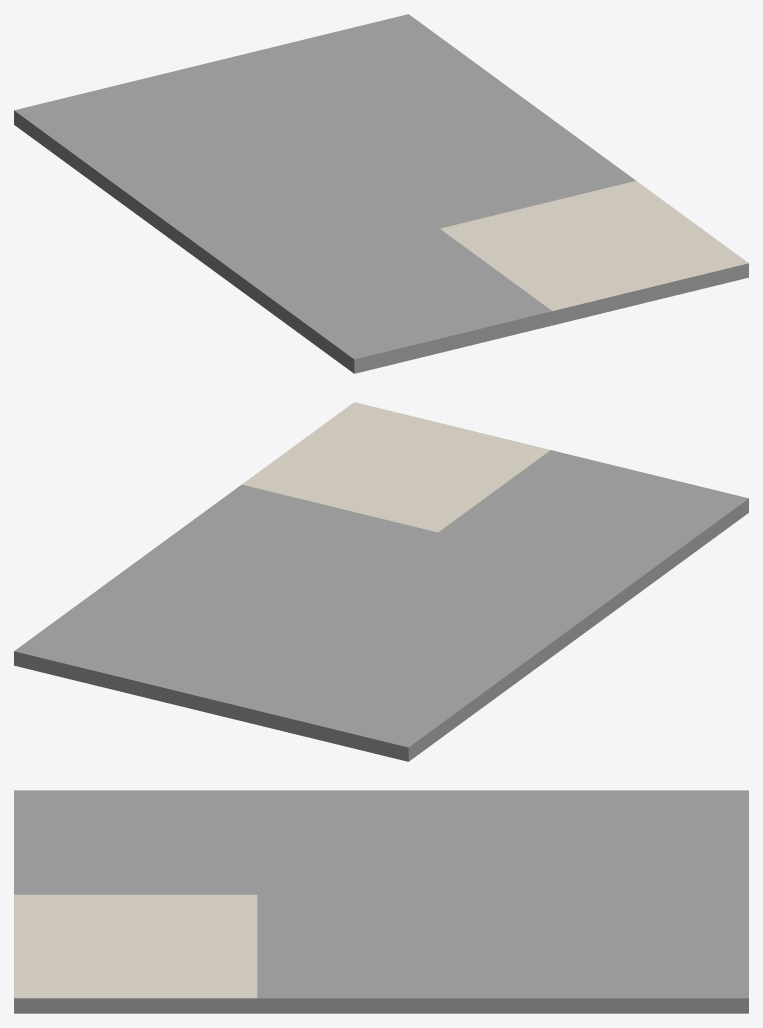
The model's file is Ceiling.fbx.
The picture shows the model from 3 angles, top to bottom: view 1: azimuth 30°, elevation 25°; view 2: azimuth 150°, elevation 25°; view 3: azimuth 270°, elevation 25°; orthographic projection. The views are drawn at different scales.
Parts seen in each view (by area): view 1: pCube1; view 2: pCube1; view 3: pCube1.
Boxes of the visible parts, box(x1,y1,x2,y2) form: pCube1: box(14, 14, 748, 373); pCube1: box(14, 402, 748, 761); pCube1: box(14, 790, 748, 1013).
Size of the model in its own units: 2 by 0.0697 by 2.99.
